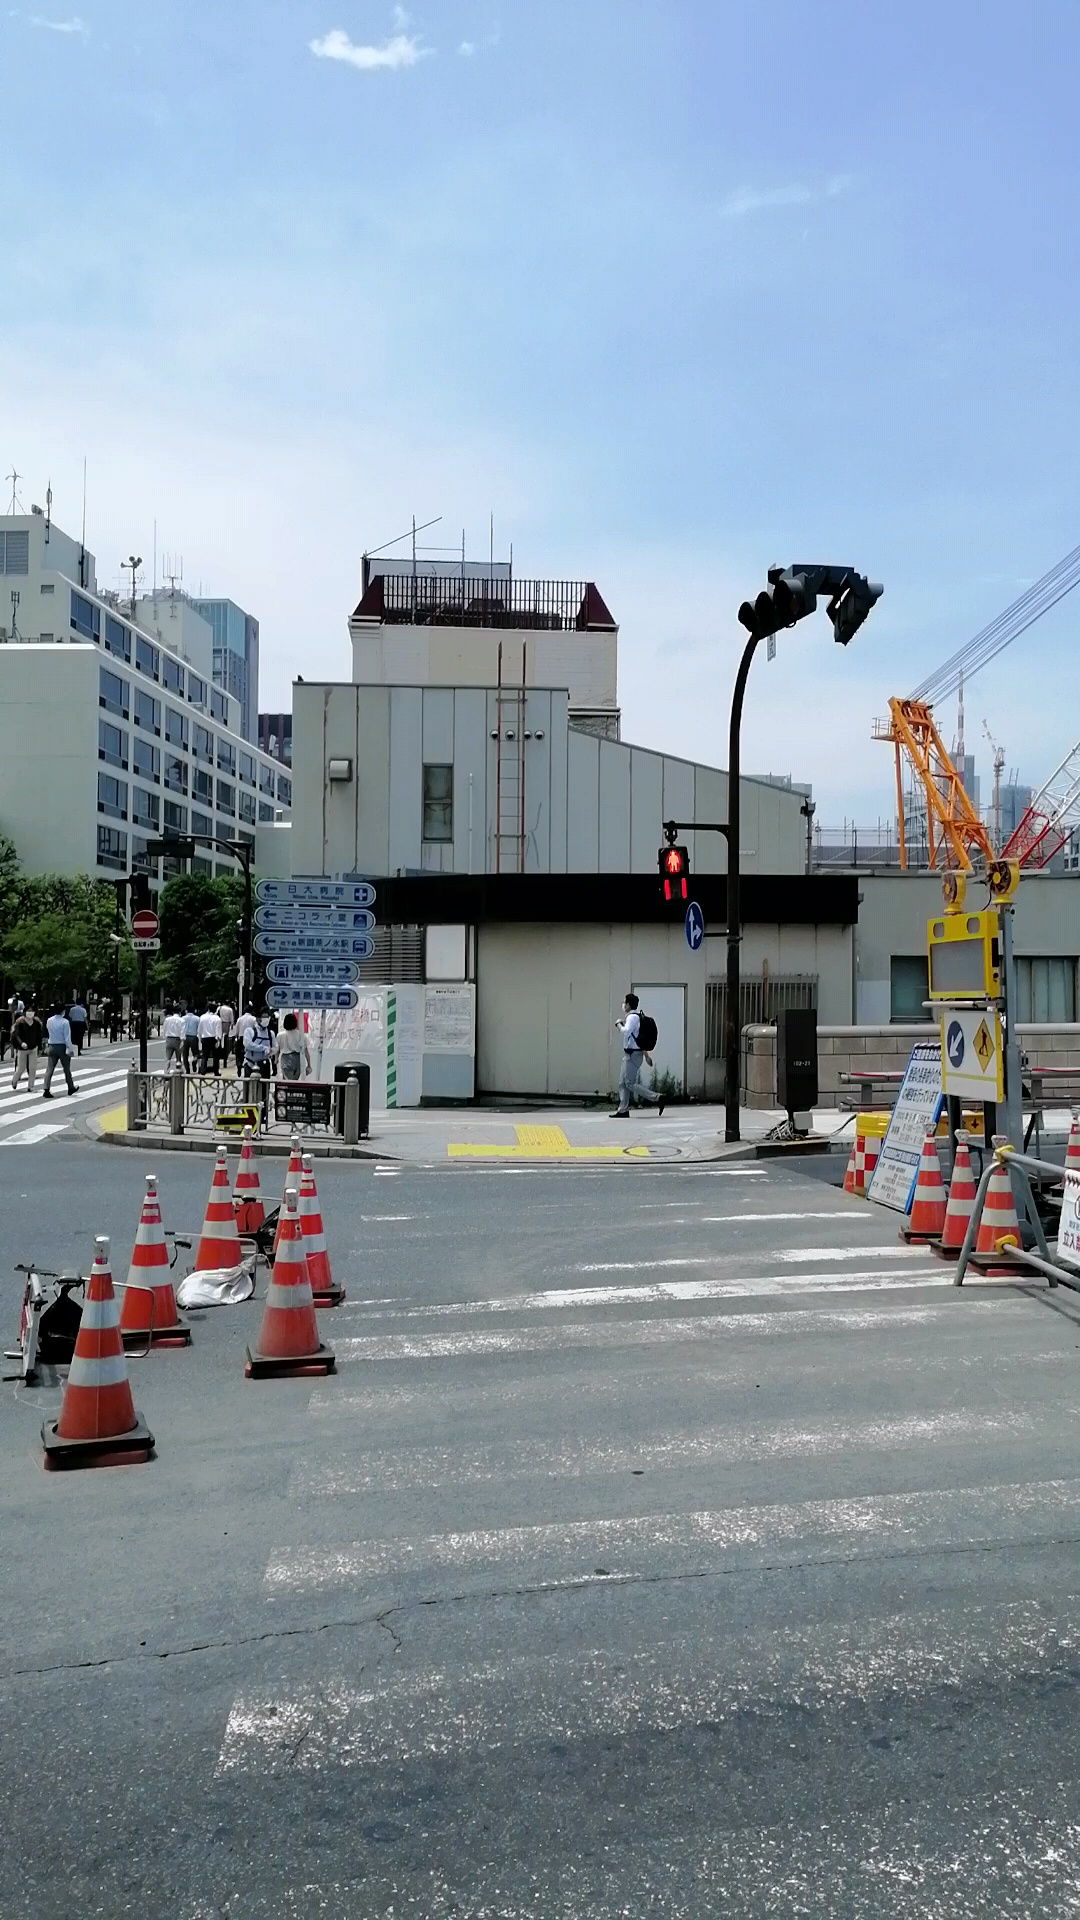red: (657, 847, 690, 905)
